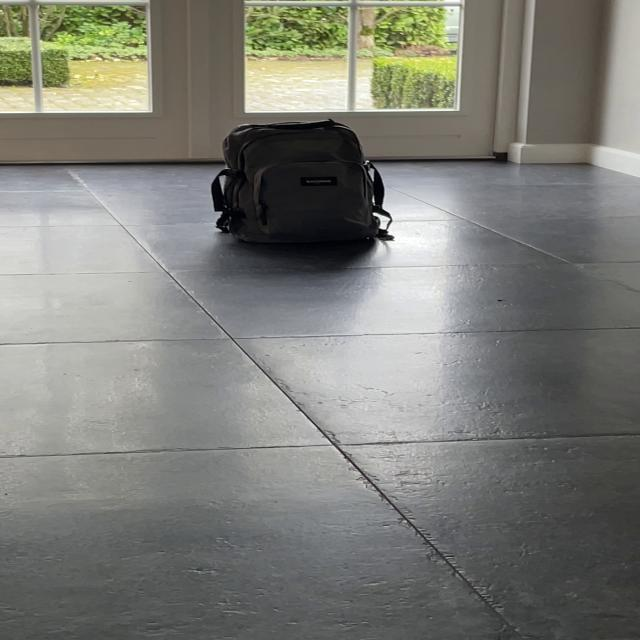backpack: (202, 114, 393, 252)
